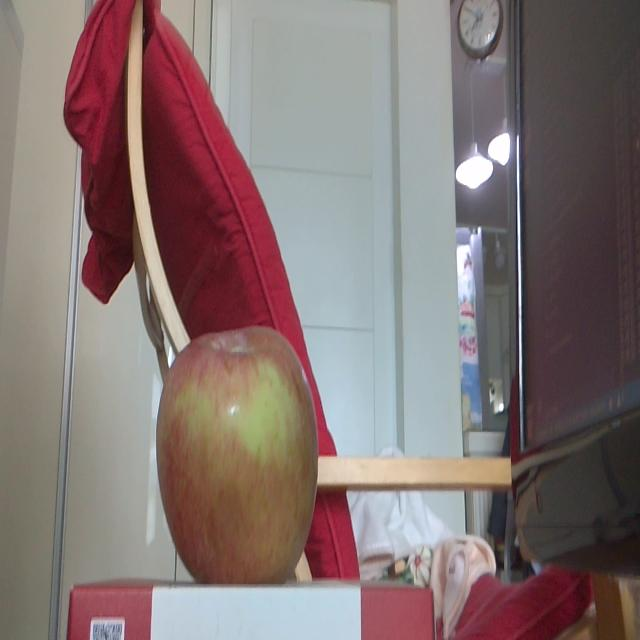apple: (157, 328, 318, 585)
